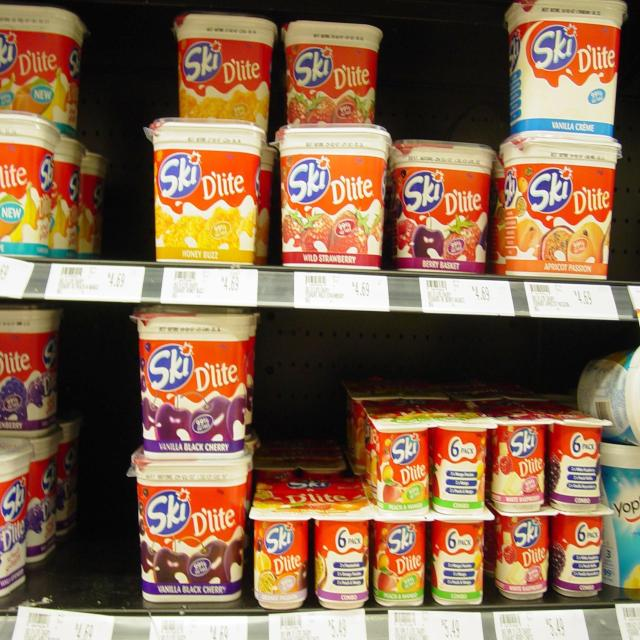empty_space: (59, 327, 129, 592), (401, 14, 501, 125), (264, 358, 345, 486), (97, 31, 144, 249)
